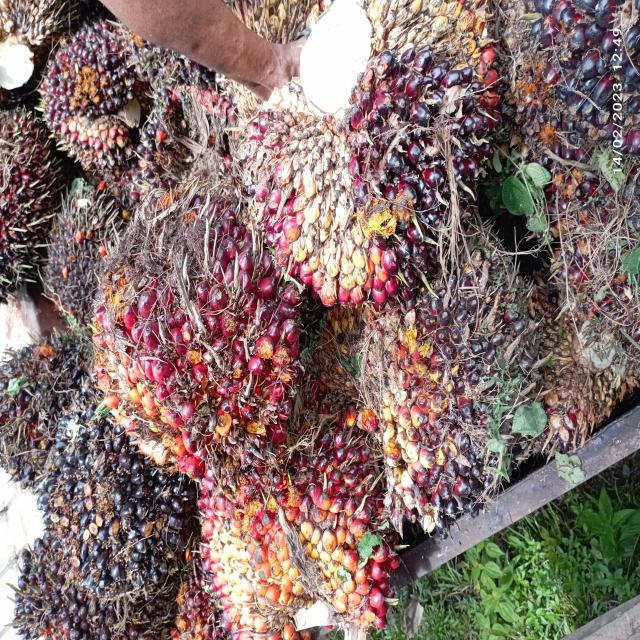fraksi 00: (351, 174, 550, 551), (333, 0, 517, 245), (37, 403, 198, 612), (35, 0, 157, 171), (42, 184, 124, 320)
fraksi 3: (64, 165, 322, 482), (194, 409, 406, 640), (232, 100, 417, 344)
